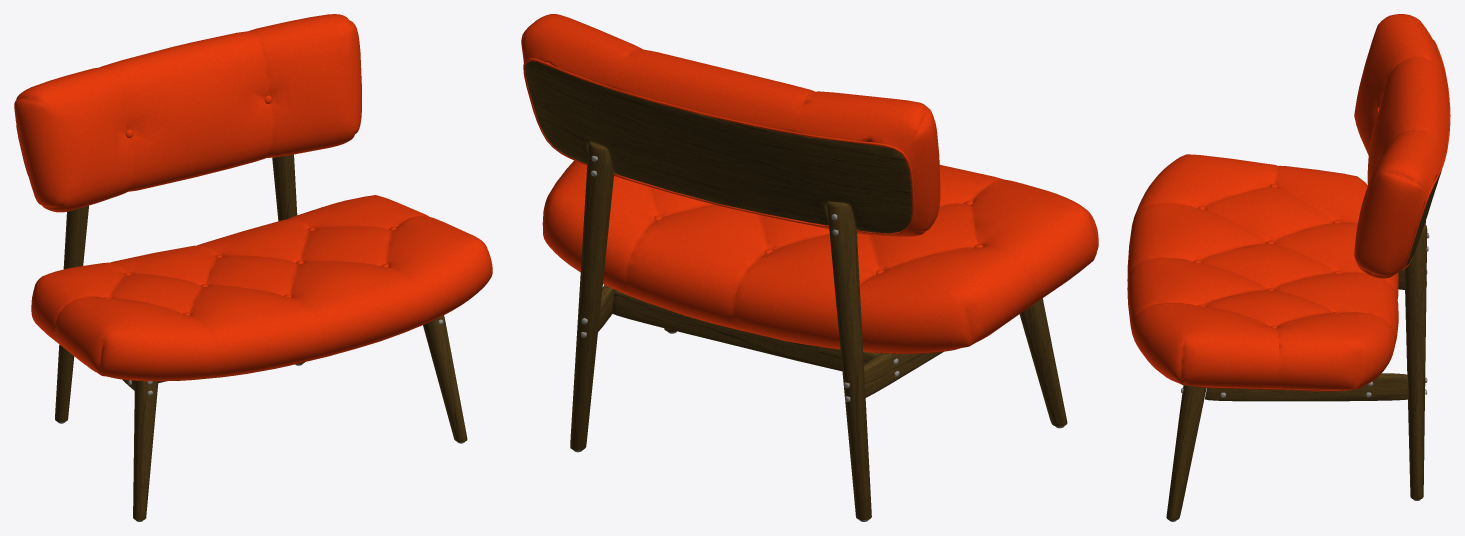
The model's file is lounge-chair.glb.
3 renders of one model, left to right at view 1: azimuth 30°, elevation 25°; view 2: azimuth 150°, elevation 25°; view 3: azimuth 270°, elevation 25°, orthographic. The views are drawn at different scales.
Visible parts, largest first — view 1: SheenChair_fabric, SheenChair_wood; view 2: SheenChair_fabric, SheenChair_wood; view 3: SheenChair_fabric, SheenChair_wood.
Part boxes in pixels (x1=…): SheenChair_fabric: x1=14, y1=14, x2=492, y2=381; SheenChair_wood: x1=55, y1=154, x2=467, y2=520; SheenChair_fabric: x1=521, y1=14, x2=1098, y2=353; SheenChair_wood: x1=525, y1=61, x2=1067, y2=520; SheenChair_fabric: x1=1127, y1=14, x2=1450, y2=391; SheenChair_wood: x1=1166, y1=170, x2=1441, y2=520.
Size of the model in its own units: 0.8266 by 0.6861 by 0.5703.
Materials: 4 (3 with a texture image).
